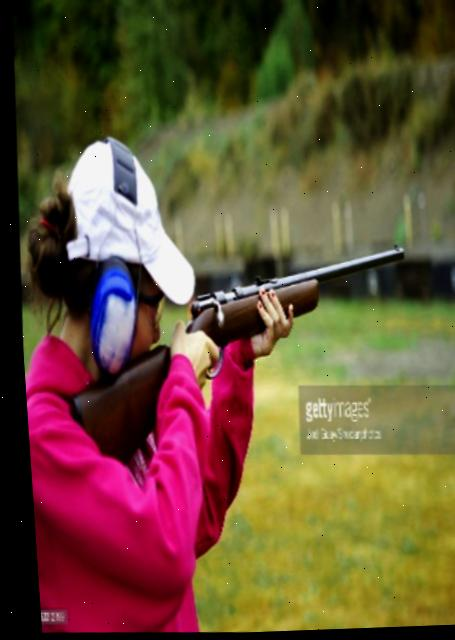rifle: (47, 232, 413, 487)
